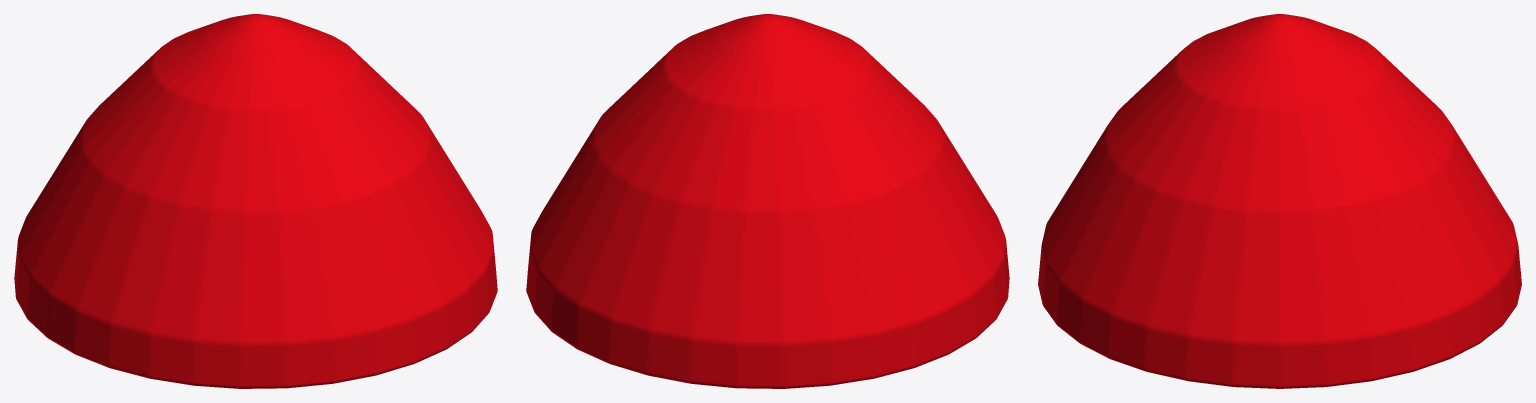
Rendered from RocketCap.fbx.
3 renders of one model, left to right at view 1: azimuth 30°, elevation 25°; view 2: azimuth 150°, elevation 25°; view 3: azimuth 270°, elevation 25°, orthographic.
Parts seen in each view (by area): view 1: Cylinder; view 2: Cylinder; view 3: Cylinder.
Boxes of the visible parts, x1,y1,x2,y2 form: Cylinder: (14,14,497,388); Cylinder: (526,14,1009,388); Cylinder: (1038,14,1521,388).
Bounding box in the file's own units: 199 × 123 × 199.
